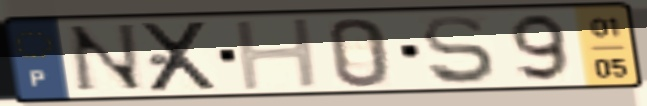0: (325, 15, 392, 90)
9: (503, 11, 575, 85)
H: (230, 15, 326, 94)
N: (63, 21, 150, 96)
S: (418, 12, 501, 87)
X: (137, 18, 224, 95)
